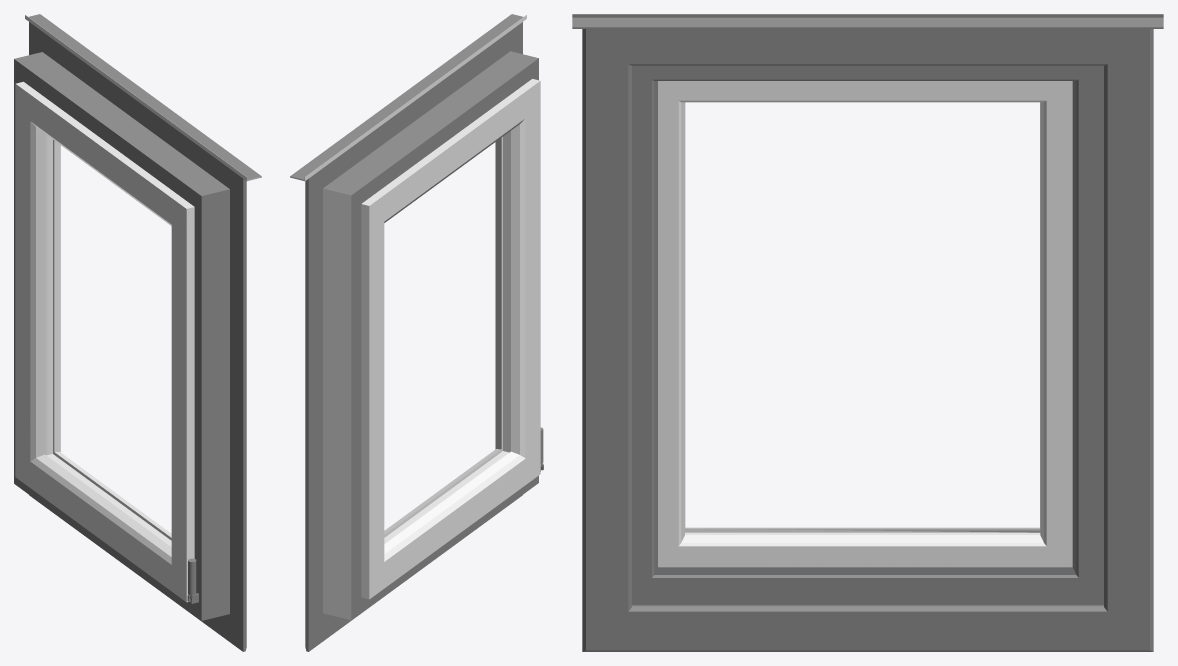
File: janela-banheiro.glb
3 renders of one model, left to right at view 1: azimuth 30°, elevation 25°; view 2: azimuth 150°, elevation 25°; view 3: azimuth 270°, elevation 25°, orthographic. The views are drawn at different scales.
Visible parts, largest first — view 1: Janela banheiro; view 2: Janela banheiro; view 3: Janela banheiro.
Boxes of the visible parts, bbox=[...] form: Janela banheiro: bbox=[14, 14, 261, 651]; Janela banheiro: bbox=[290, 14, 543, 651]; Janela banheiro: bbox=[572, 14, 1163, 651].
Size of the model in its own units: 0.1268 by 1.11 by 0.9334.
6 materials, 2 textured.
